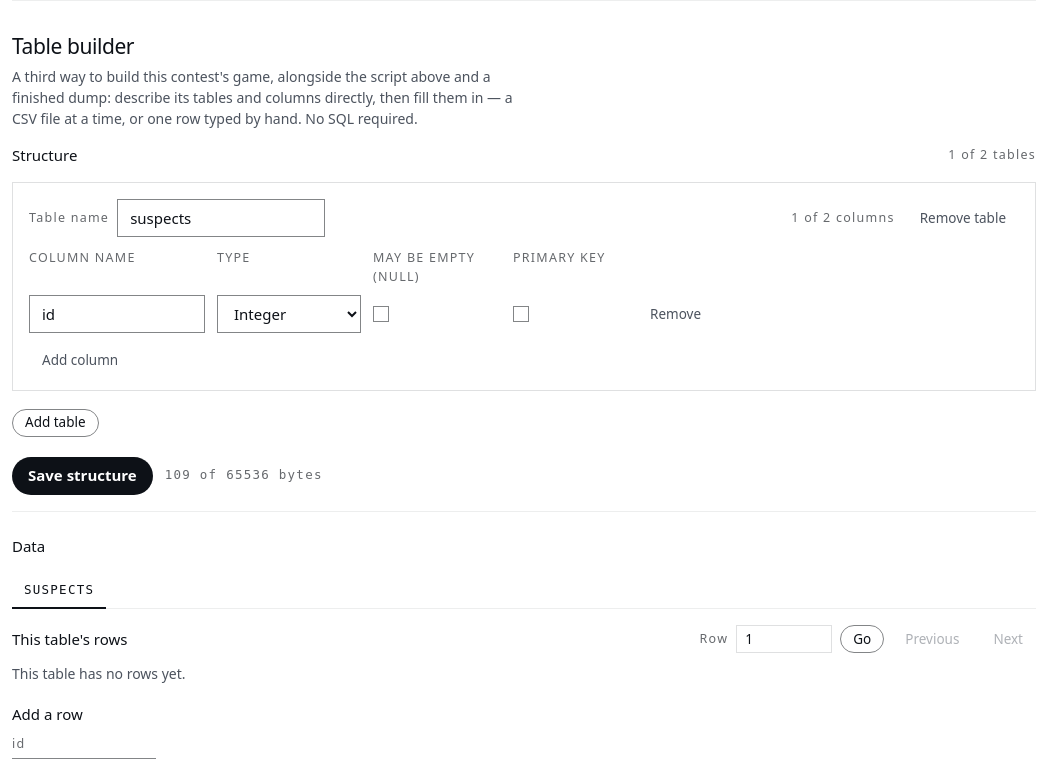
it: the table builder's own structure editor › saves the structure in the server's own wire shape, name/type/nullable and a primary key by column name
Click the checkbox named "Primary key": [521, 314] box top-left (513, 306), bottom-right (529, 322)
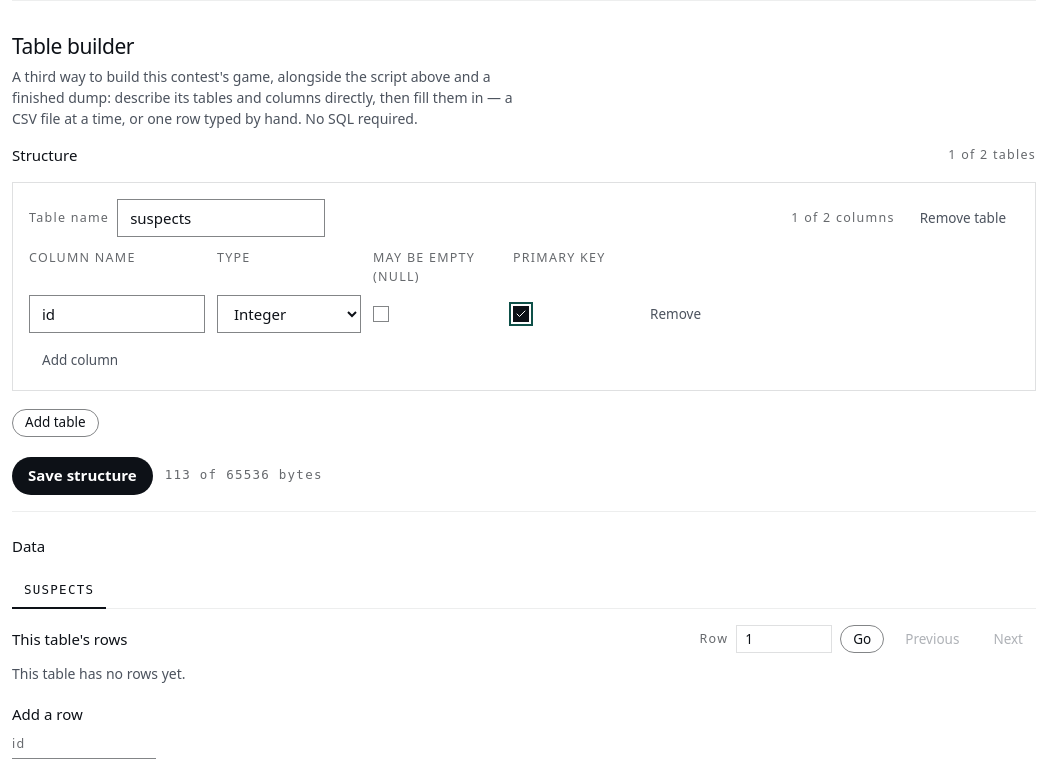
Click the button "Save structure": [82, 476] box top-left (12, 457), bottom-right (153, 495)
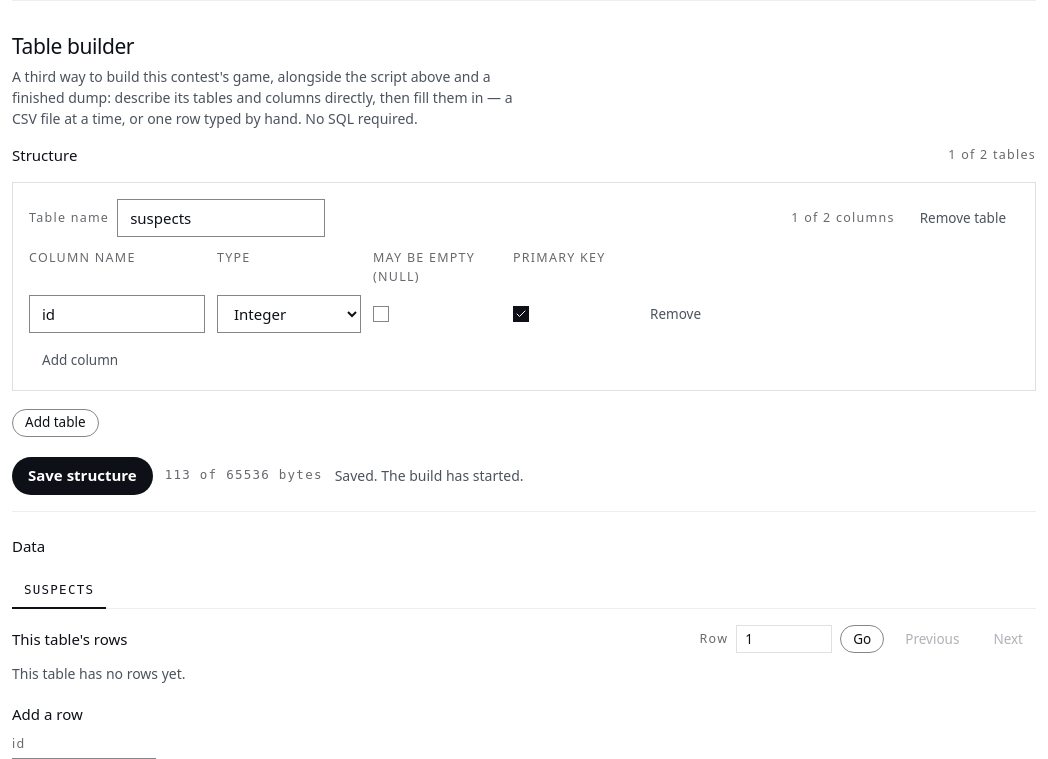
Expected: the text "Saved. The build has started." is shown, top-left (335, 465), bottom-right (524, 486)
